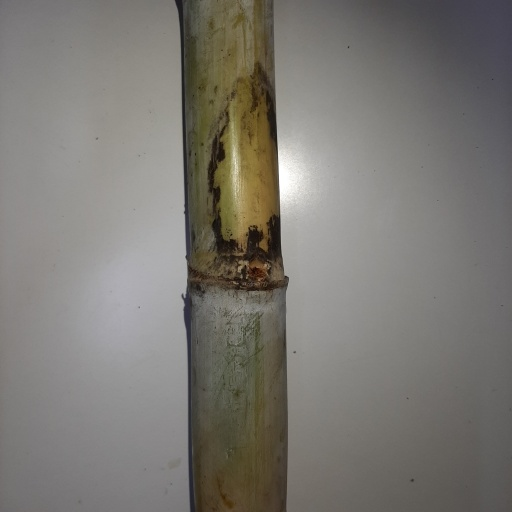Damage_Bud: (244, 254, 268, 283)
